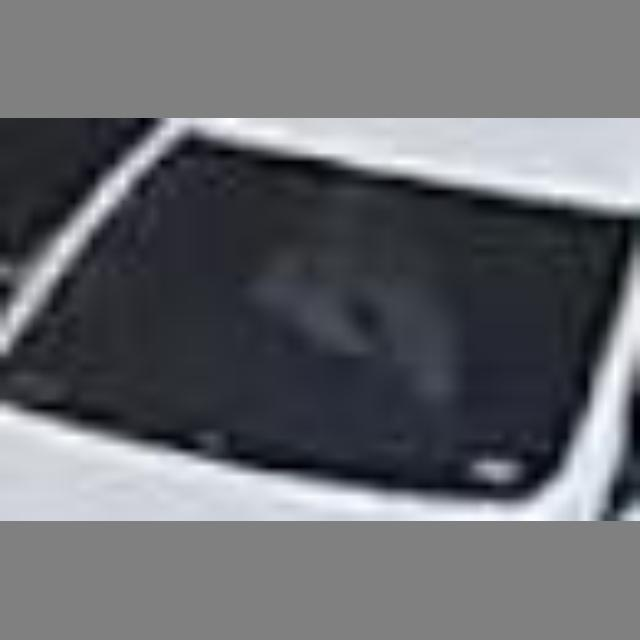pakai: (226, 187, 463, 404)
